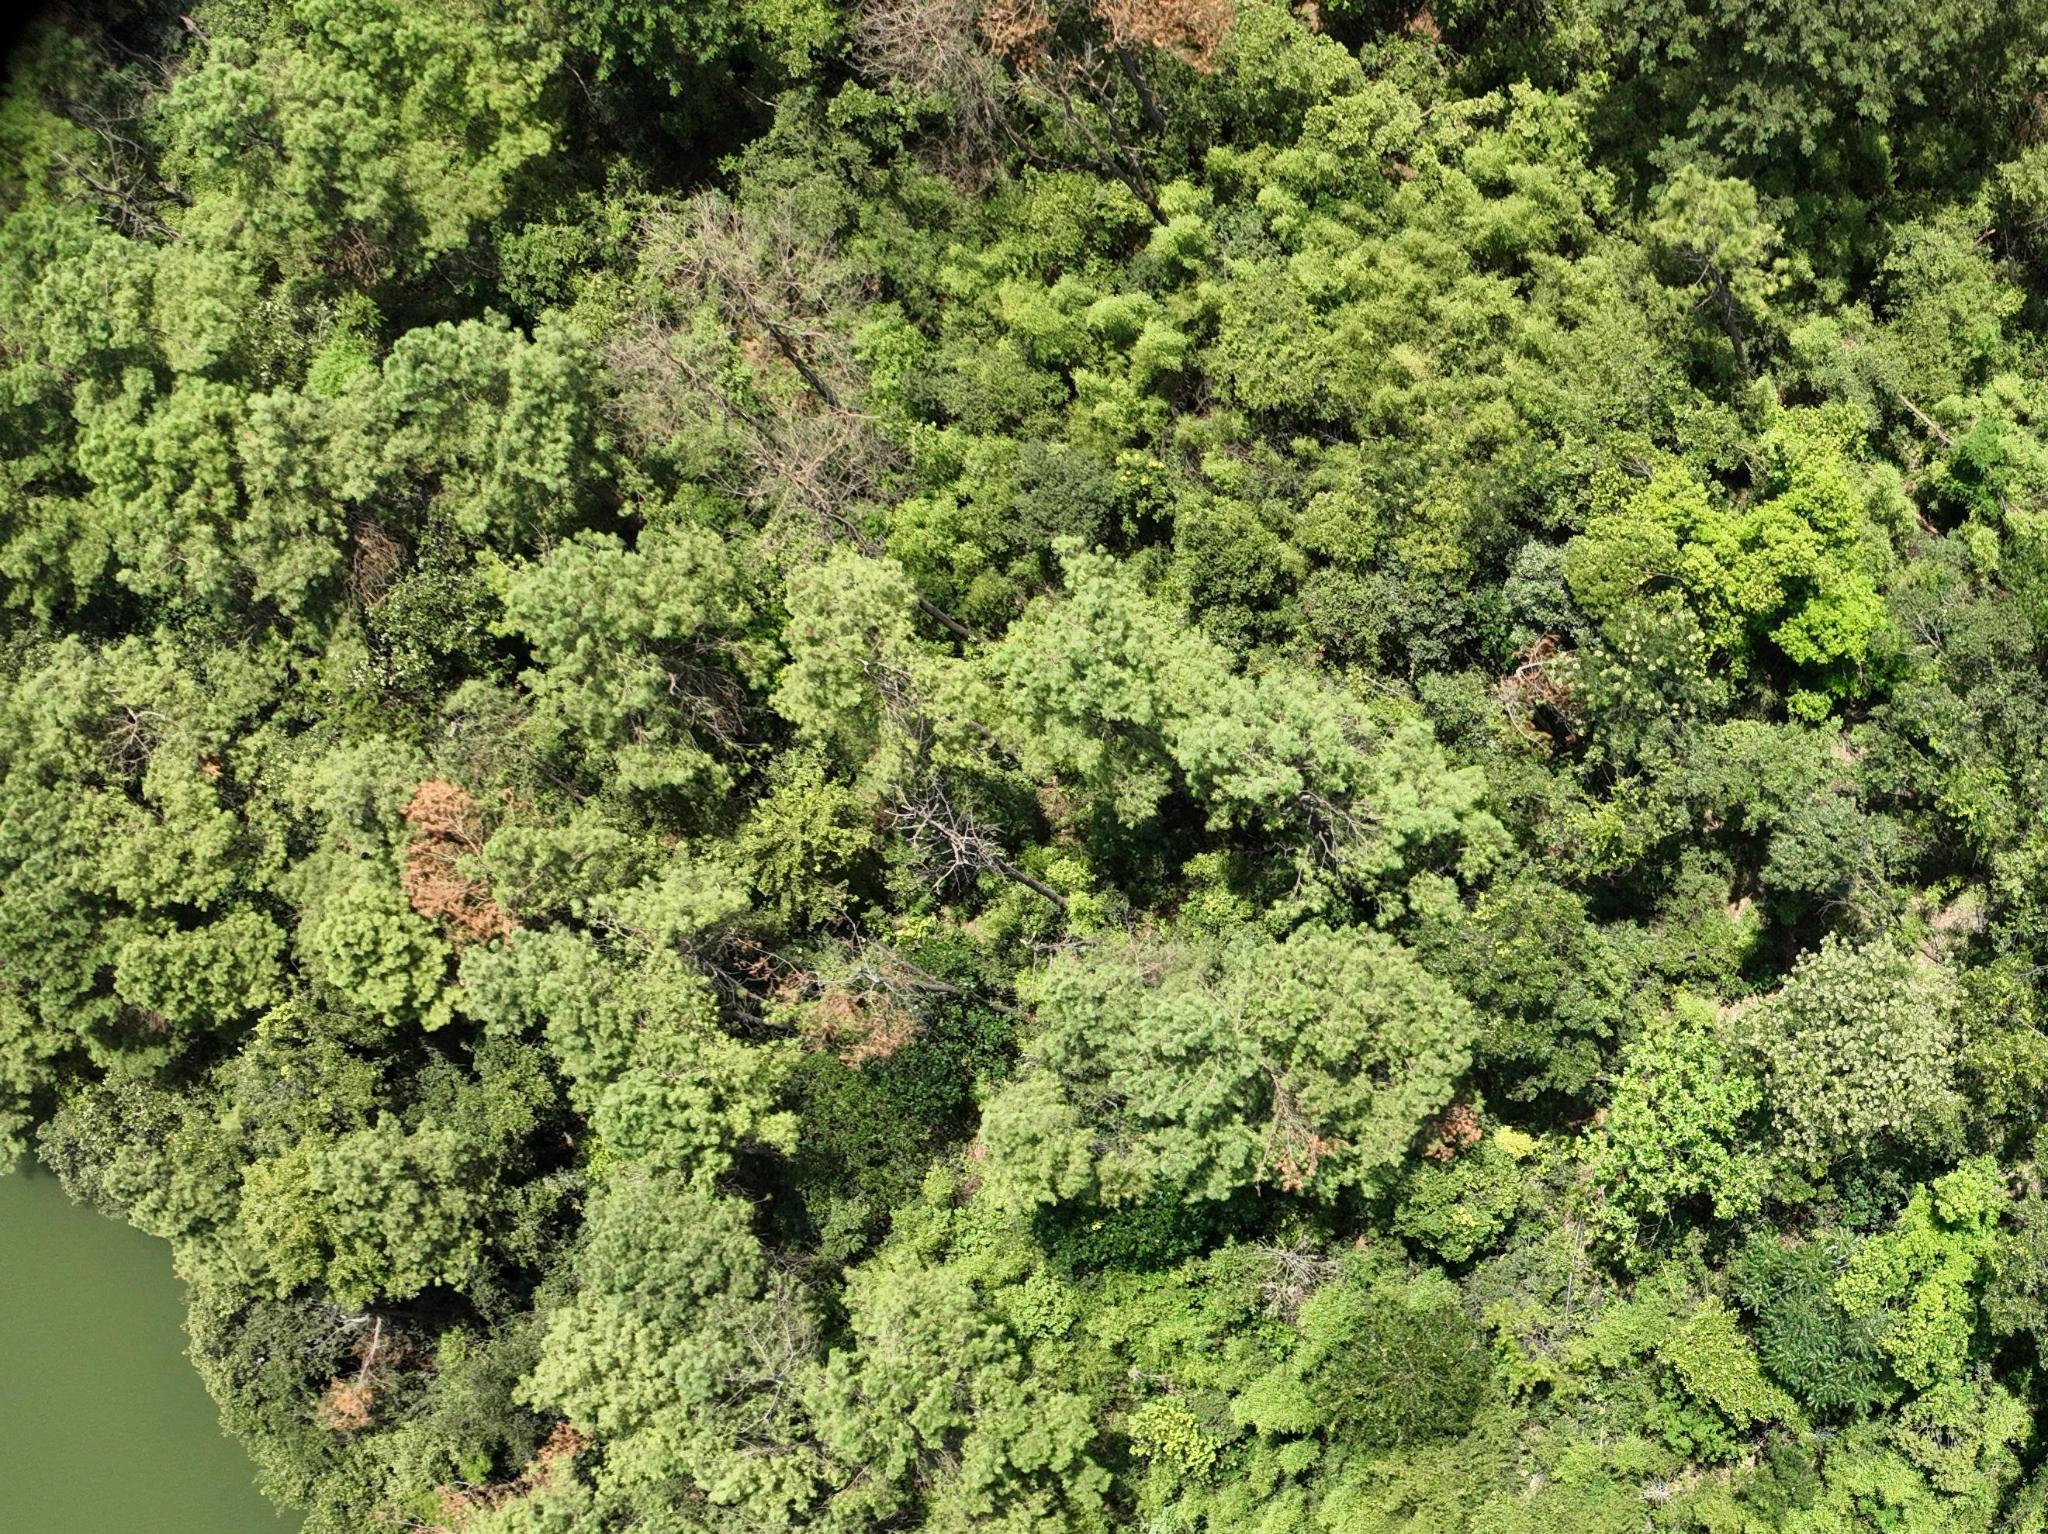dead: (856, 5, 968, 118)
heavy: (981, 3, 1236, 87), (380, 777, 495, 941)
